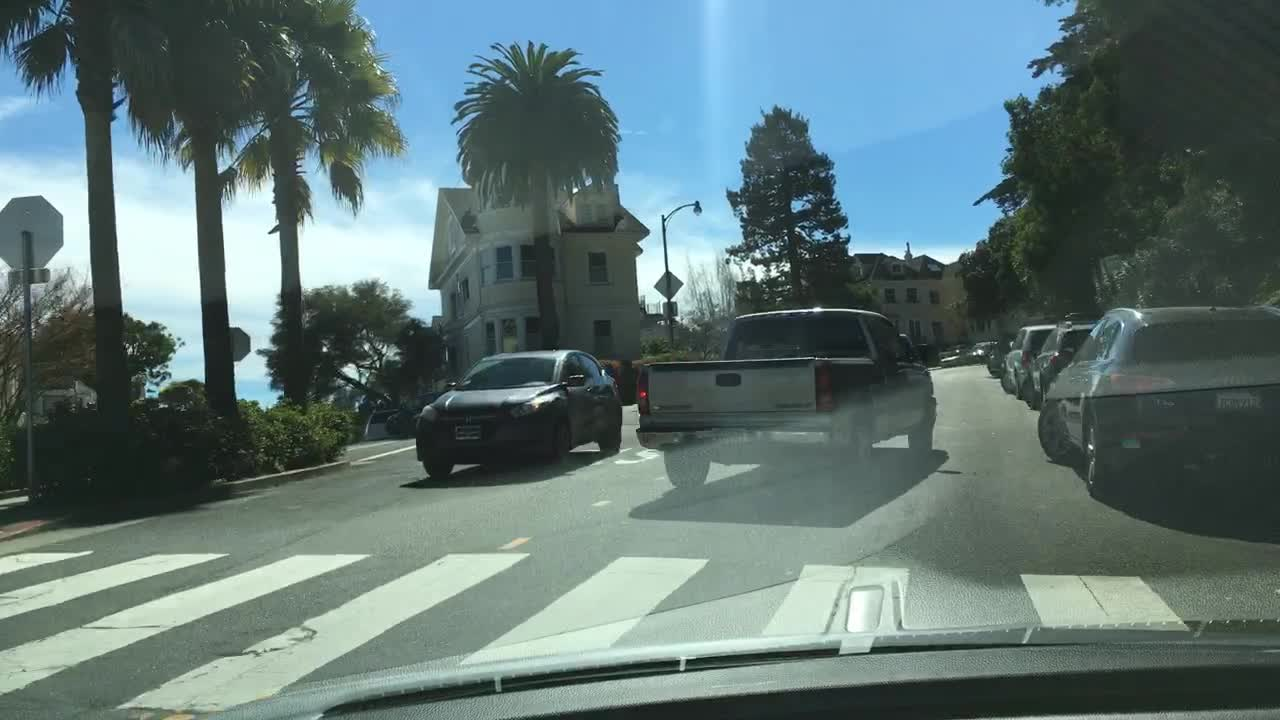car: (1034, 306, 1279, 504), (413, 346, 623, 478), (1023, 324, 1098, 415), (999, 322, 1055, 395), (382, 391, 446, 437), (985, 341, 1008, 378), (941, 344, 972, 365), (971, 338, 992, 366)
traffic sign: (0, 194, 64, 268), (4, 268, 50, 287), (651, 273, 682, 299), (230, 329, 252, 362), (663, 299, 677, 318)
truck: (630, 304, 939, 488)
